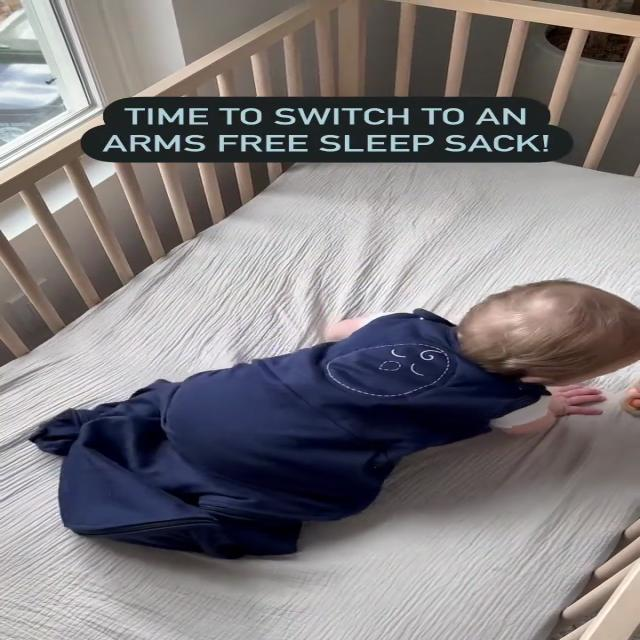baby: (19, 273, 640, 570)
